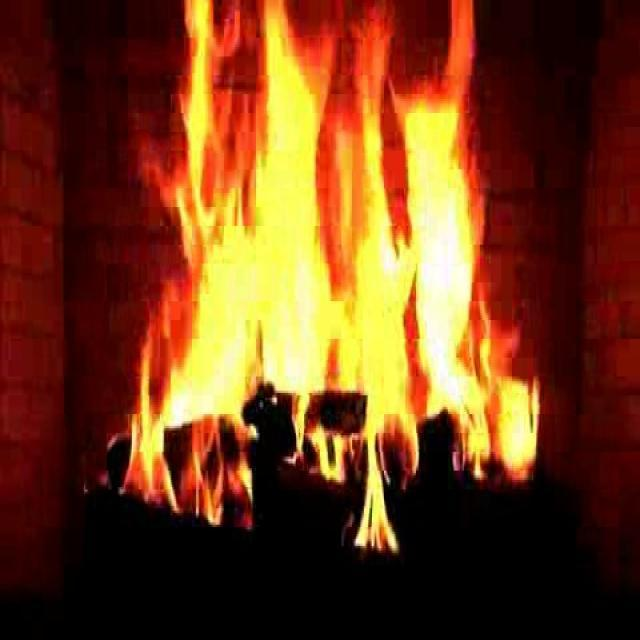Fire: (90, 0, 633, 540)
